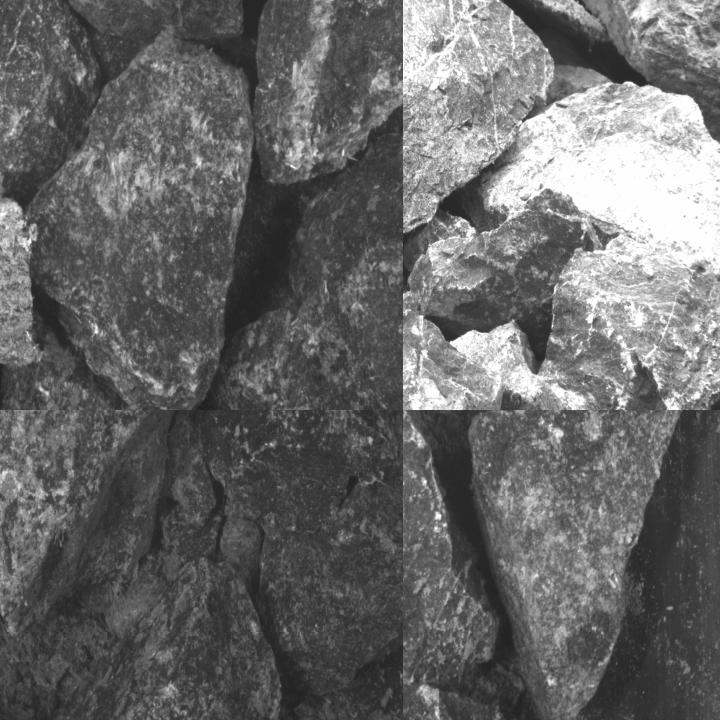stone: (22, 43, 252, 409), (465, 410, 692, 719), (194, 410, 402, 696), (207, 121, 402, 409), (0, 410, 210, 638), (26, 557, 282, 719), (403, 0, 556, 263), (537, 234, 719, 409), (403, 410, 500, 696), (254, 0, 402, 184), (407, 185, 590, 333), (0, 0, 111, 225), (576, 0, 719, 152), (74, 502, 229, 637), (0, 334, 219, 409), (403, 308, 504, 409), (159, 410, 216, 547), (0, 199, 43, 364), (403, 683, 584, 719), (163, 502, 225, 582), (220, 514, 264, 602)
